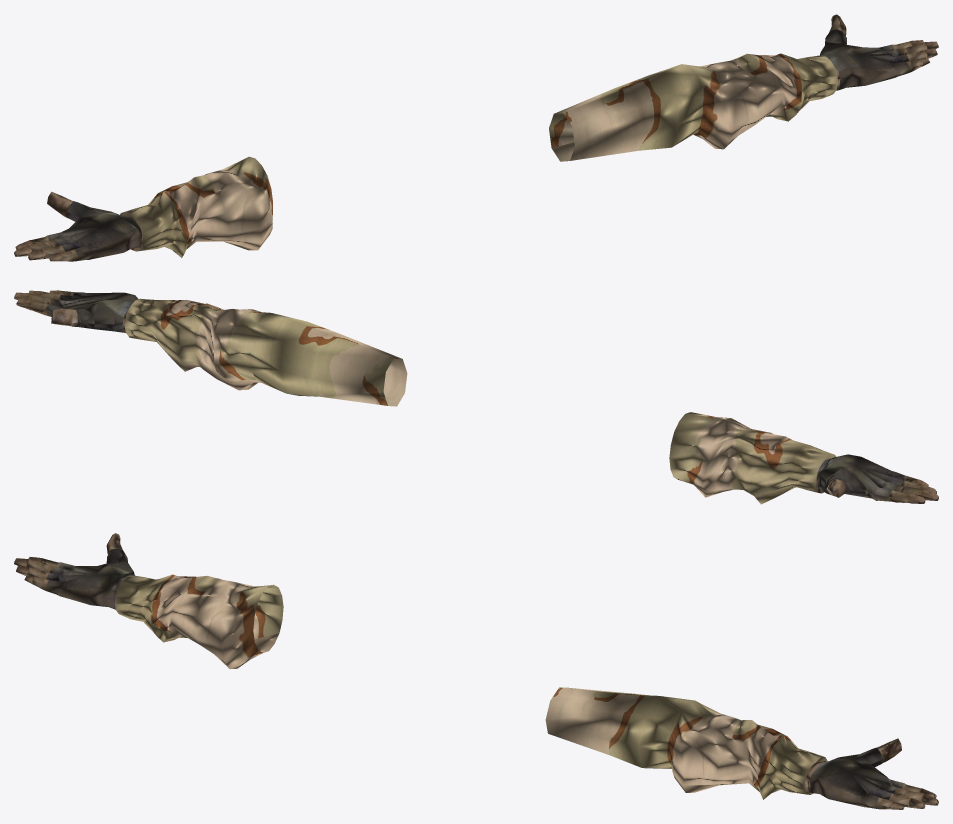
Rendered from armsb.glb.
3 renders of one model, top to bottom at view 1: azimuth 30°, elevation 25°; view 2: azimuth 150°, elevation 25°; view 3: azimuth 330°, elevation 25°, orthographic.
Parts seen in each view (by area): view 1: _Armsb; view 2: _Armsb; view 3: _Armsb.
Part boxes in pixels (left/top/right/bottom): _Armsb: left=14, top=14, right=938, bottom=261; _Armsb: left=14, top=290, right=938, bottom=504; _Armsb: left=14, top=533, right=938, bottom=809.
Bounding box in the file's own units: 1.9 × 0.1749 × 0.2103.
Materials: 2 (2 with a texture image).
